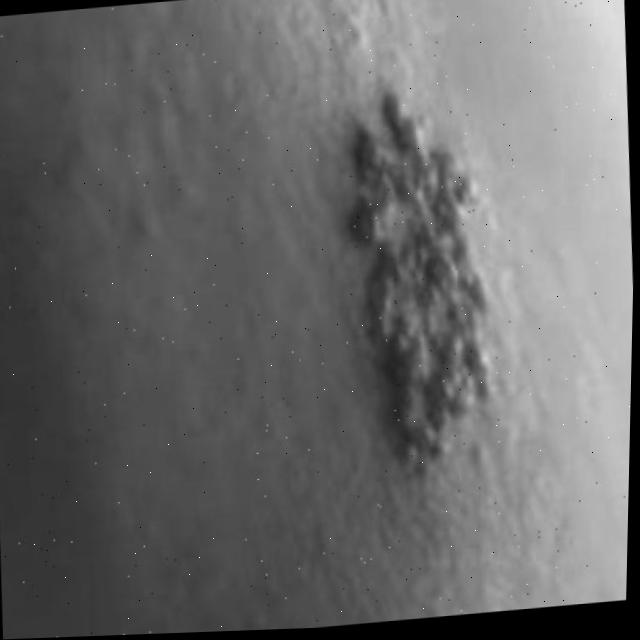Shingles: (335, 86, 505, 472)
